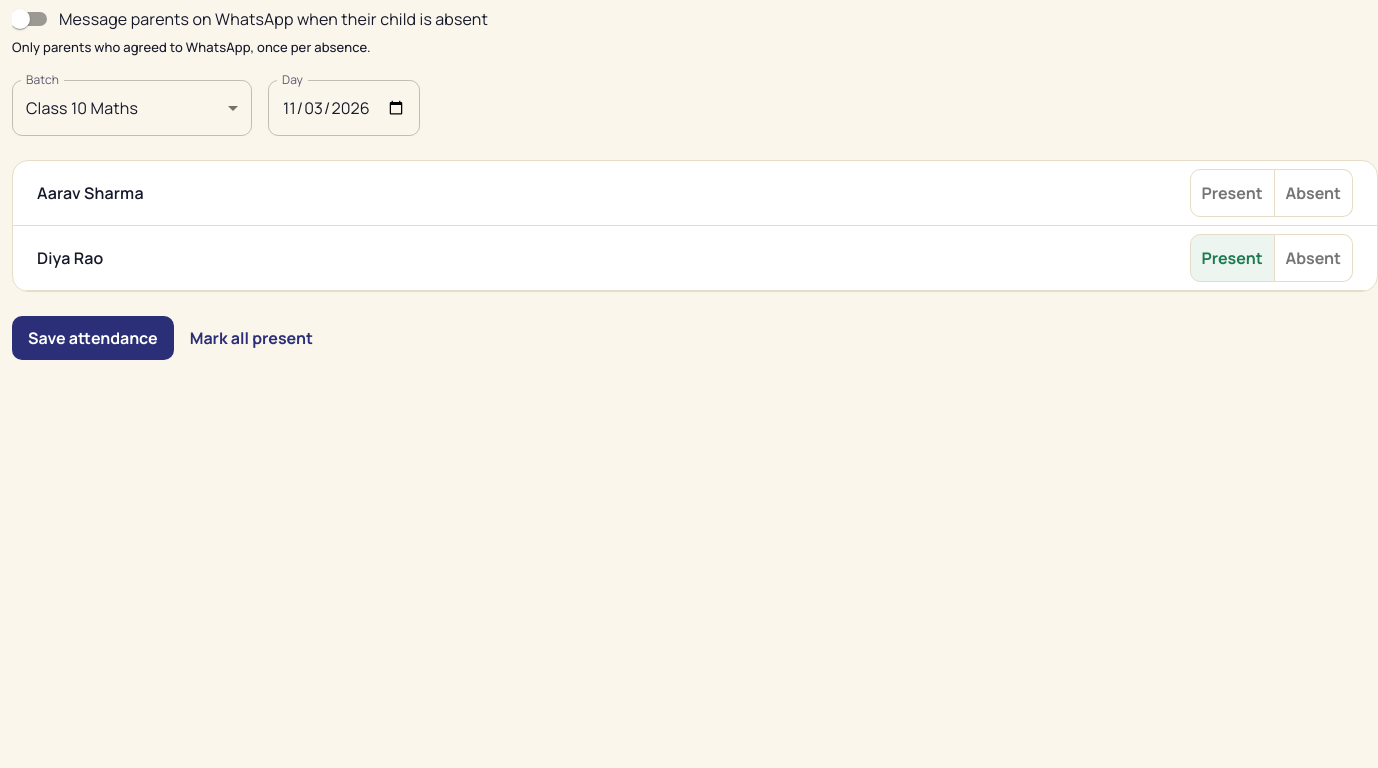
Attendance › marks everyone present at once
The width and height of the screenshot is (1378, 768).
expect the element named "Aarav Sharma" is shown: met, box left=1190, top=169, right=1353, bottom=217
Click the button "Mark all present". click: point(251, 338)
box: left=182, top=316, right=321, bottom=360
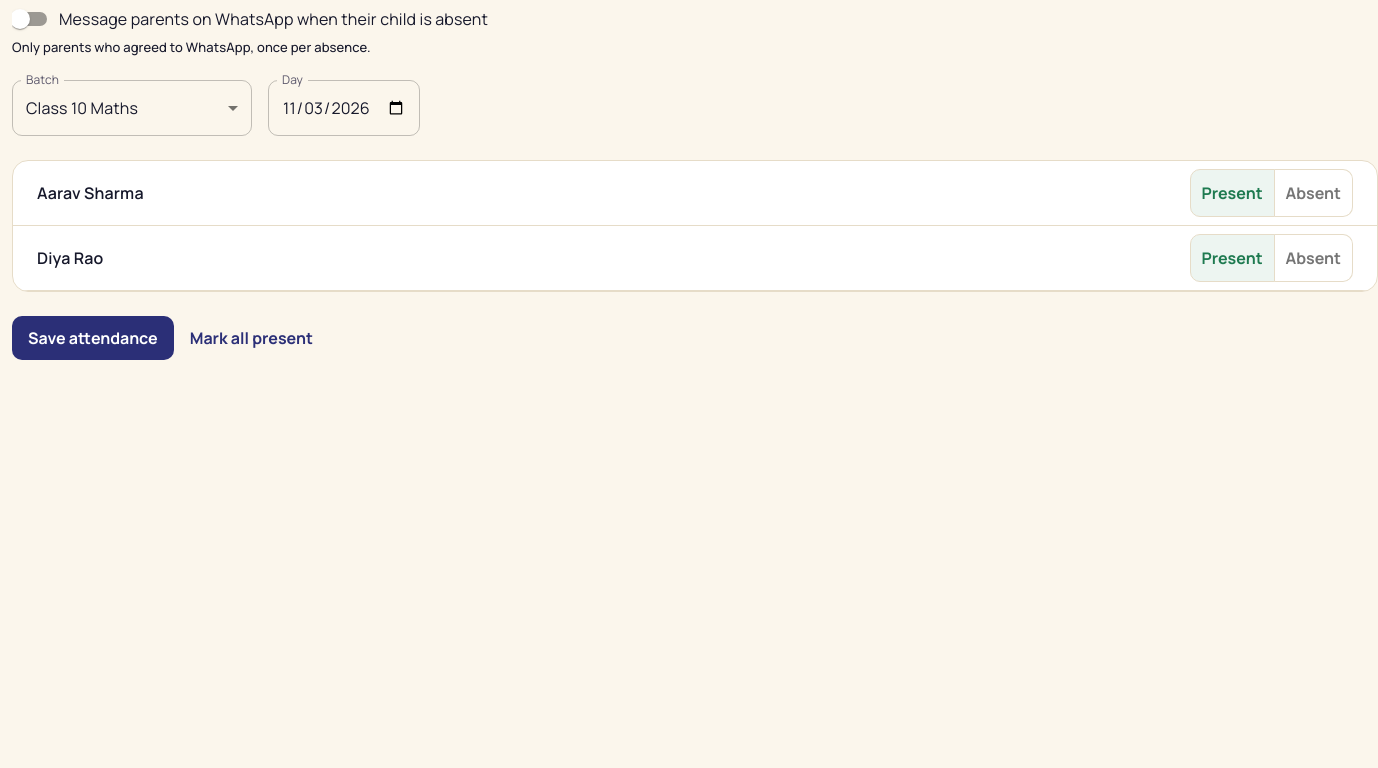
Click the button "Save attendance". click: point(93, 338)
box: left=12, top=316, right=174, bottom=360
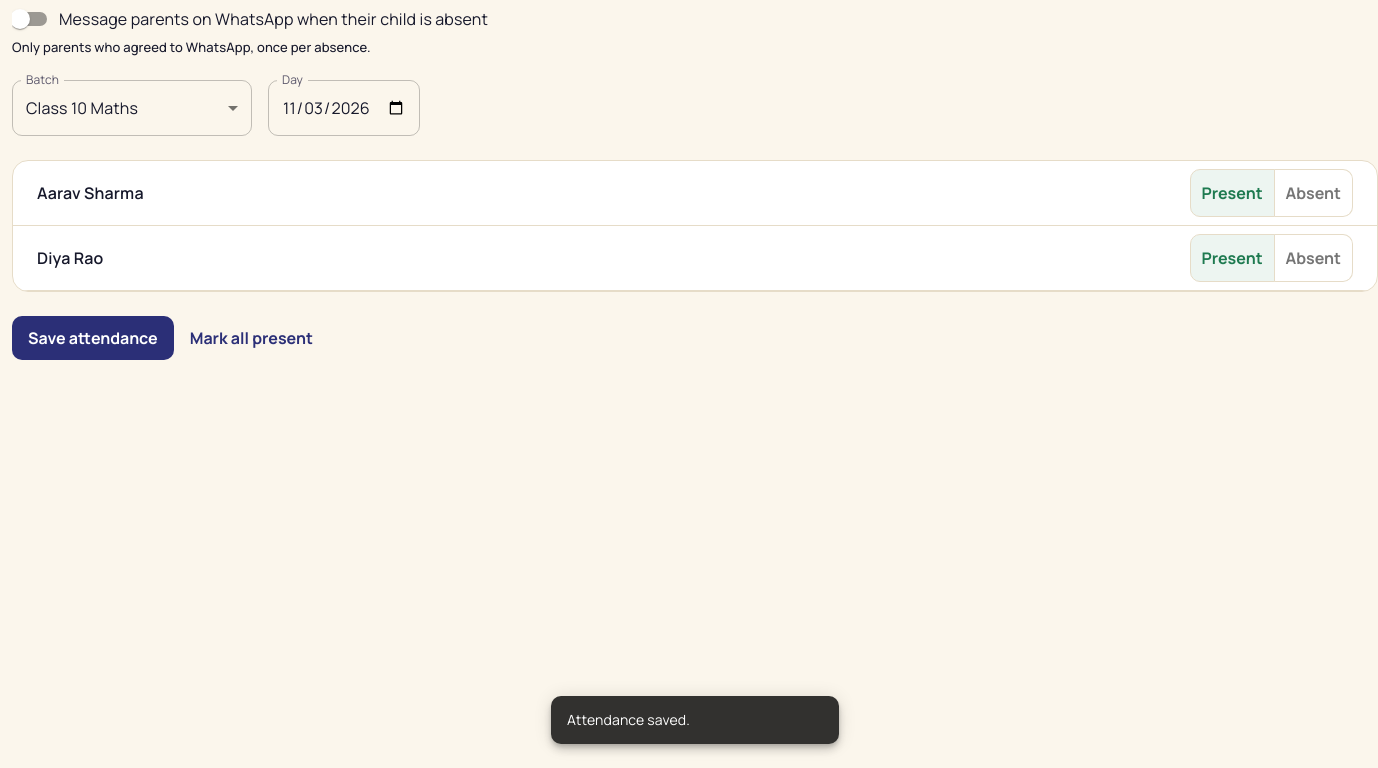
expect the text "Attendance saved." is shown: met, box left=567, top=710, right=690, bottom=729
